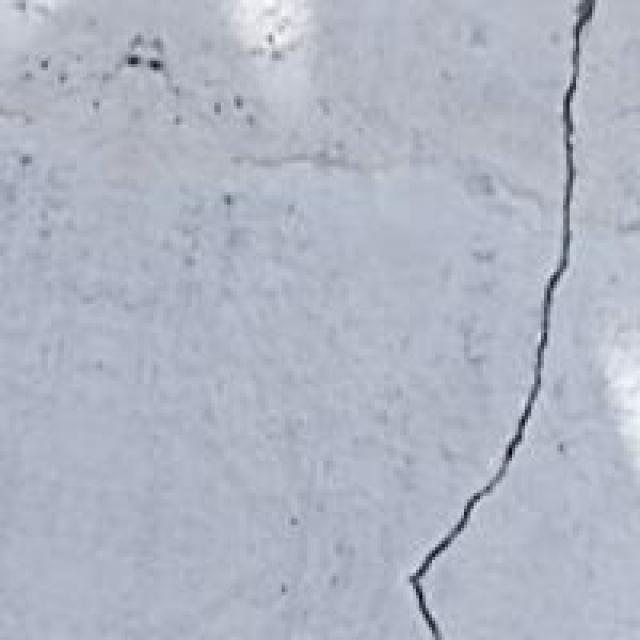crack: (403, 6, 637, 637)
